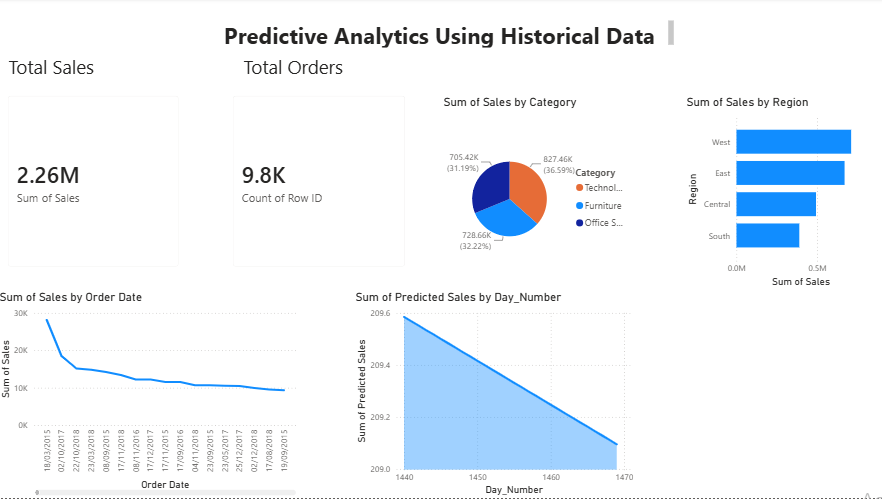

Layout of this report page (visuals, bound fields, positions):
{"tool":"powerbi","page":{"name":"Page 1","canvas":[1280,720],"ordinal":0},"visuals":[{"type":"cardVisual","fields":{"Data":["Sum(train.Sales)"]},"box":[0,124.3,280.5,280.5],"z":0},{"type":"textbox","box":[13.4,75.6,161.3,48.7],"z":1000},{"type":"textbox","box":[324.2,26.9,656.8,48.7],"z":2000},{"type":"textbox","box":[351.1,75.6,171.3,48.7],"z":3000},{"type":"cardVisual","fields":{"Data":["CountNonNull(train.Row ID)"]},"box":[324.2,124.3,282.2,280.5],"z":4000},{"type":"pieChart","fields":{"Category":["train.Category"],"Y":["Sum(train.Sales)"]},"box":[640,139.4,282.2,280.5],"z":4001},{"type":"clusteredBarChart","fields":{"Category":["train.Region"],"Y":["Sum(train.Sales)"]},"box":[989.5,139,282,281],"z":4002},{"type":"lineChart","fields":{"Category":["train.Order Date"],"Y":["Sum(train.Sales)"]},"box":[0,419.9,436.7,300.7],"z":4003},{"type":"areaChart","fields":{"Category":["future_predictions.Day_Number"],"Y":["Sum(future_predictions.Predicted Sales)"]},"box":[512.3,419.9,409.9,300.7],"z":4004}]}

Visuals, with their boxes in screenshot pixels (x1, y1, x2, y2), scaled from the page's 1280x720 canvas onto the 882x499 screenshot:
cardVisual - Sum(train.Sales): [x1=0, y1=86, x2=193, y2=281]
textbox: [x1=9, y1=52, x2=120, y2=86]
textbox: [x1=223, y1=19, x2=676, y2=52]
textbox: [x1=242, y1=52, x2=360, y2=86]
cardVisual - CountNonNull(train.Row ID): [x1=223, y1=86, x2=418, y2=281]
pieChart - train.Category x Sum(train.Sales): [x1=441, y1=97, x2=635, y2=291]
clusteredBarChart - train.Region x Sum(train.Sales): [x1=682, y1=96, x2=876, y2=291]
lineChart - train.Order Date x Sum(train.Sales): [x1=0, y1=291, x2=301, y2=498]
areaChart - future_predictions.Day_Number x Sum(future_predictions.Predicted Sales): [x1=353, y1=291, x2=635, y2=498]
